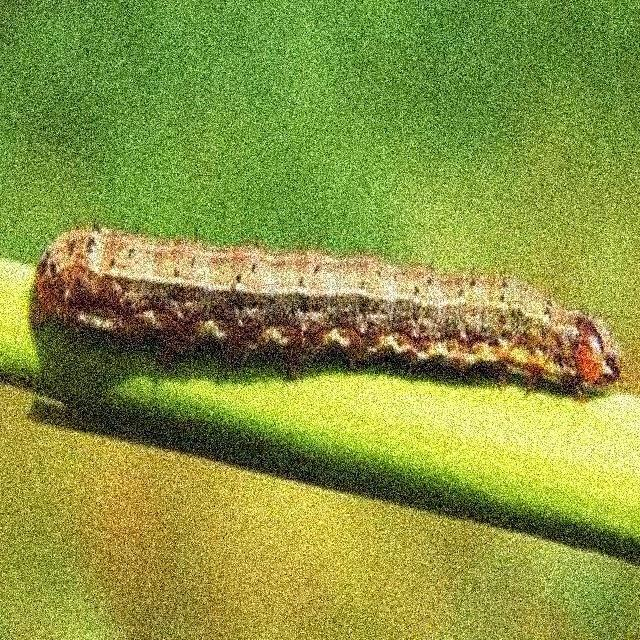gusano_cogollero: (38, 228, 620, 395)
